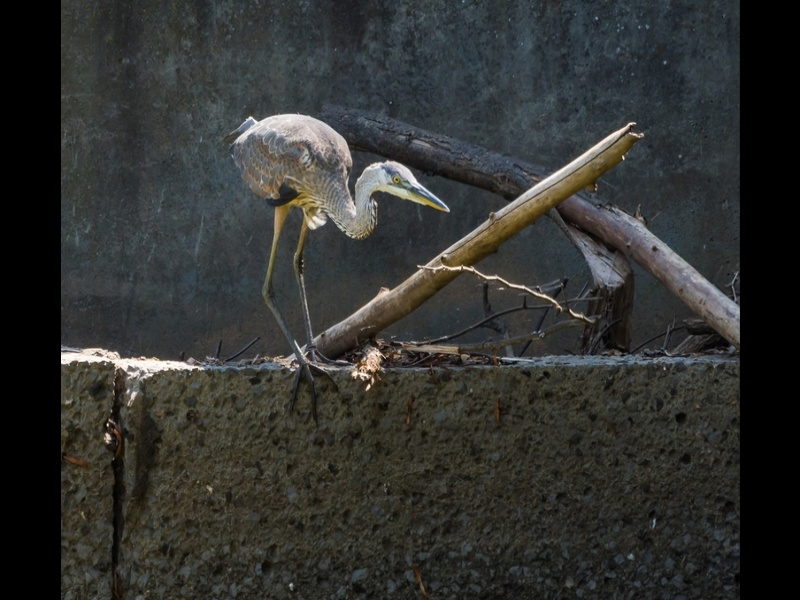heron: (227, 110, 455, 405)
